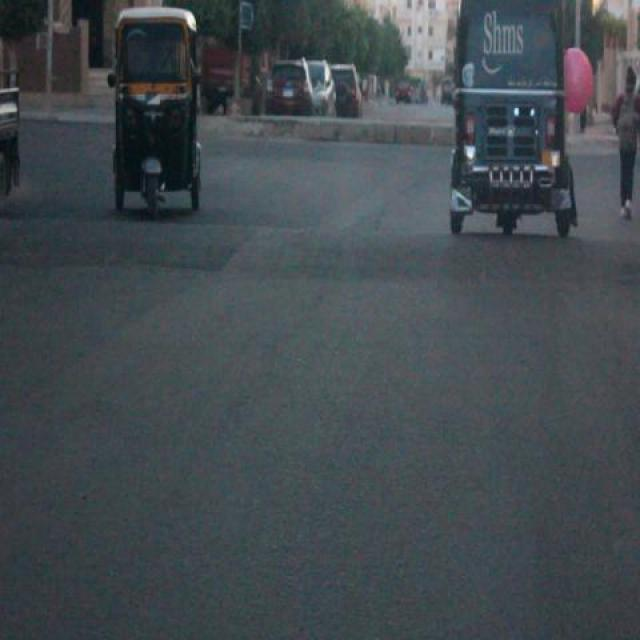Unmarked Bump: (1, 214, 640, 286)
